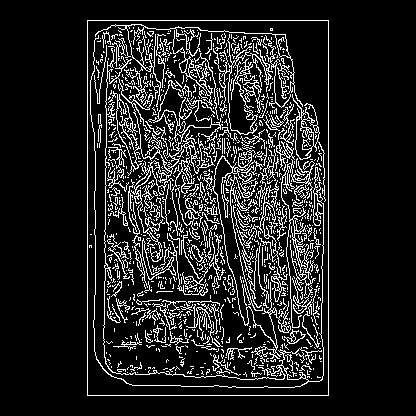buddha-standing: (222, 51, 278, 340)
